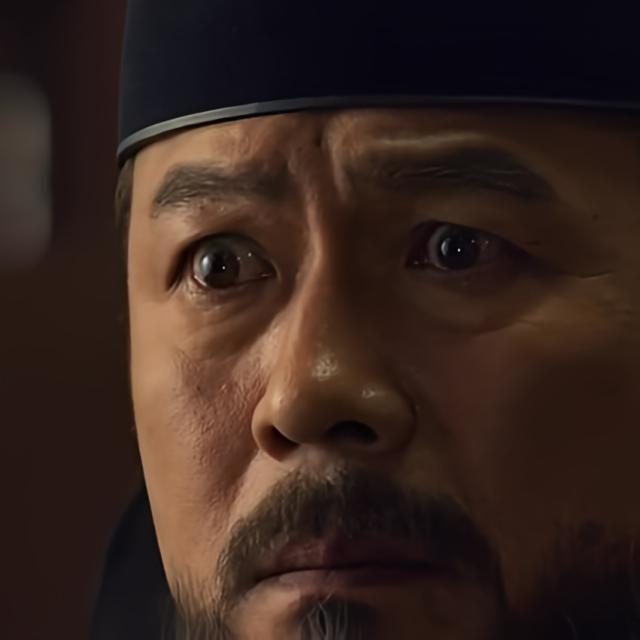fear: (125, 101, 640, 640)
